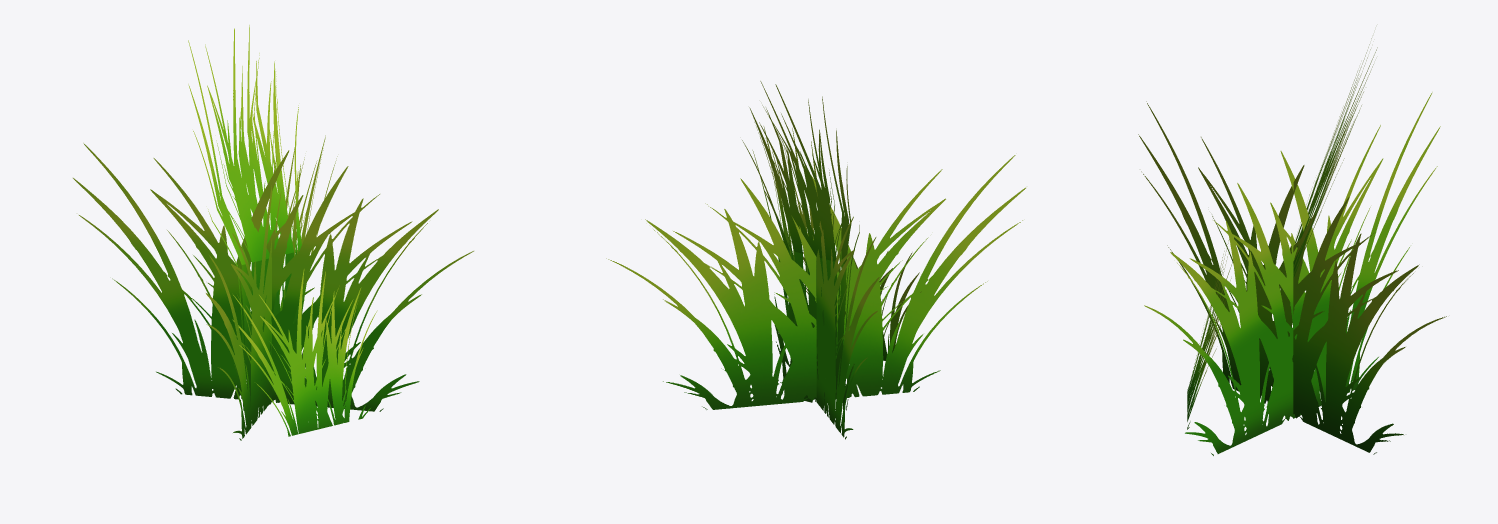
Rendered from weed-medium.fbx.
3 renders of one model, left to right at view 1: azimuth 30°, elevation 25°; view 2: azimuth 150°, elevation 25°; view 3: azimuth 270°, elevation 25°, orthographic. The views are drawn at different scales.
Parts seen in each view (by area): view 1: Medium-weed; view 2: Medium-weed; view 3: Medium-weed.
Boxes of the visible parts, bbox=[...] form: Medium-weed: bbox=[73, 25, 473, 440]; Medium-weed: bbox=[606, 81, 1025, 439]; Medium-weed: bbox=[1138, 38, 1446, 455].
Size of the model in its own units: 182 by 177 by 163.
Materials: 1 (1 with a texture image).
